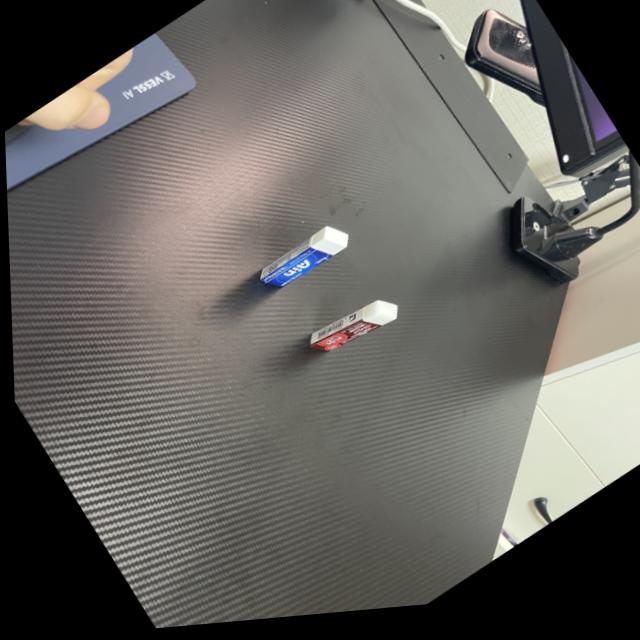blue: (243, 215, 363, 310)
red: (293, 284, 410, 381)
